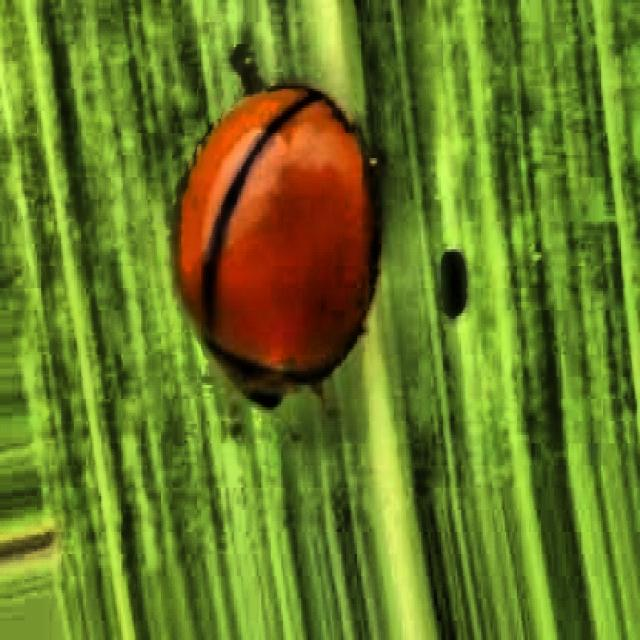Ladybug: (88, 11, 452, 491)
